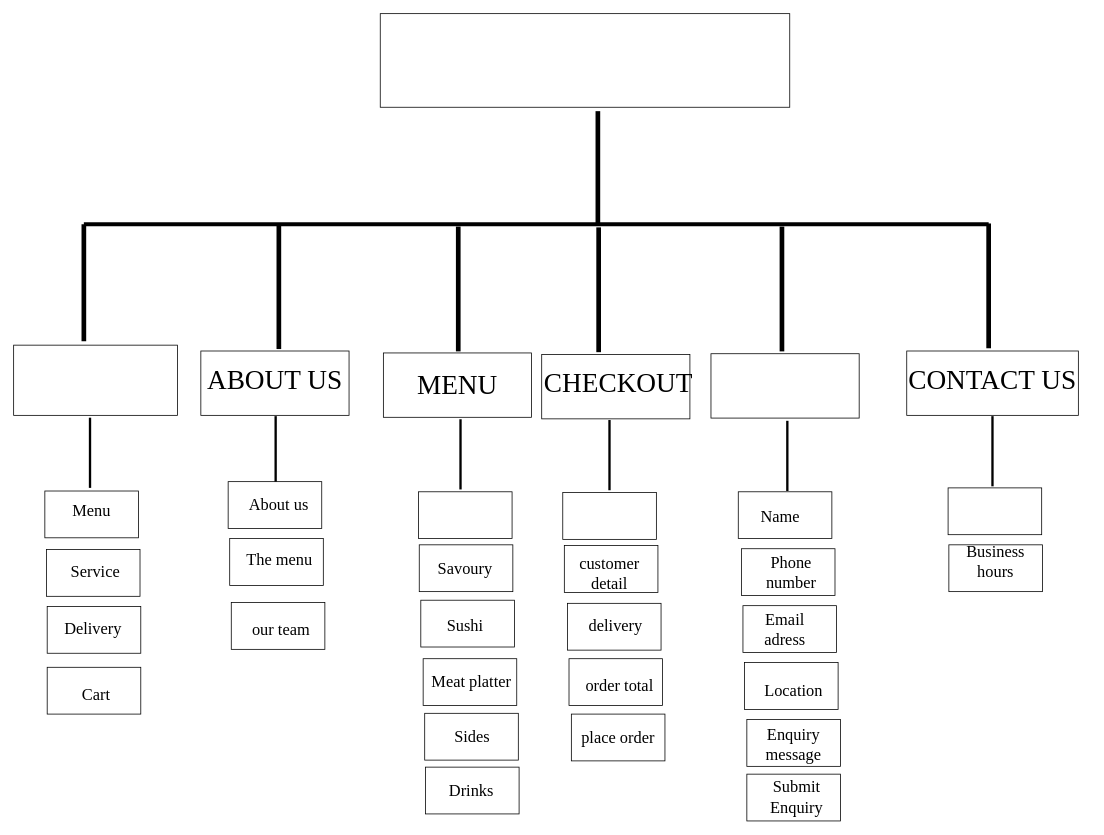
Some shapes in this 1104 by 835 pixel diagram are drawn without their labels. The centre of each missing label's shape, as x and y in pixels:
"Contact details" belongs at point 994,511.
"Crave Corner" belongs at point 584,60.
"ENQUIRE" belongs at point 784,385.
"HOME" belongs at point 95,379.
"Main" belongs at point 465,515.
"order detail" belongs at point 609,515.
